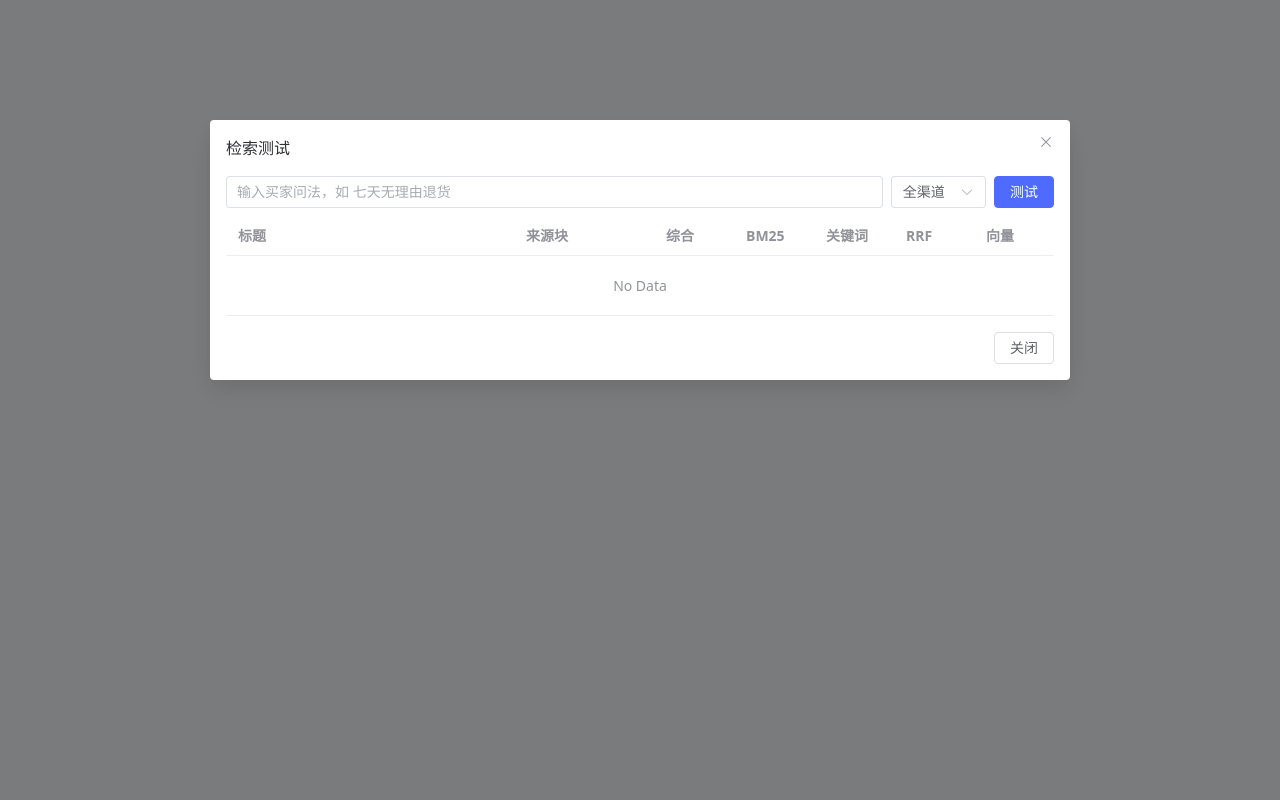
Test: retrievalTester › 正常返回渲染分数表与过滤计数
This screenshot has width=1280, height=800.
Type "七天无理由退货" into the field with placeholder "输入买家问法，如 七天无理由退货" at [554, 192], box top-left (237, 177), bottom-right (872, 207)
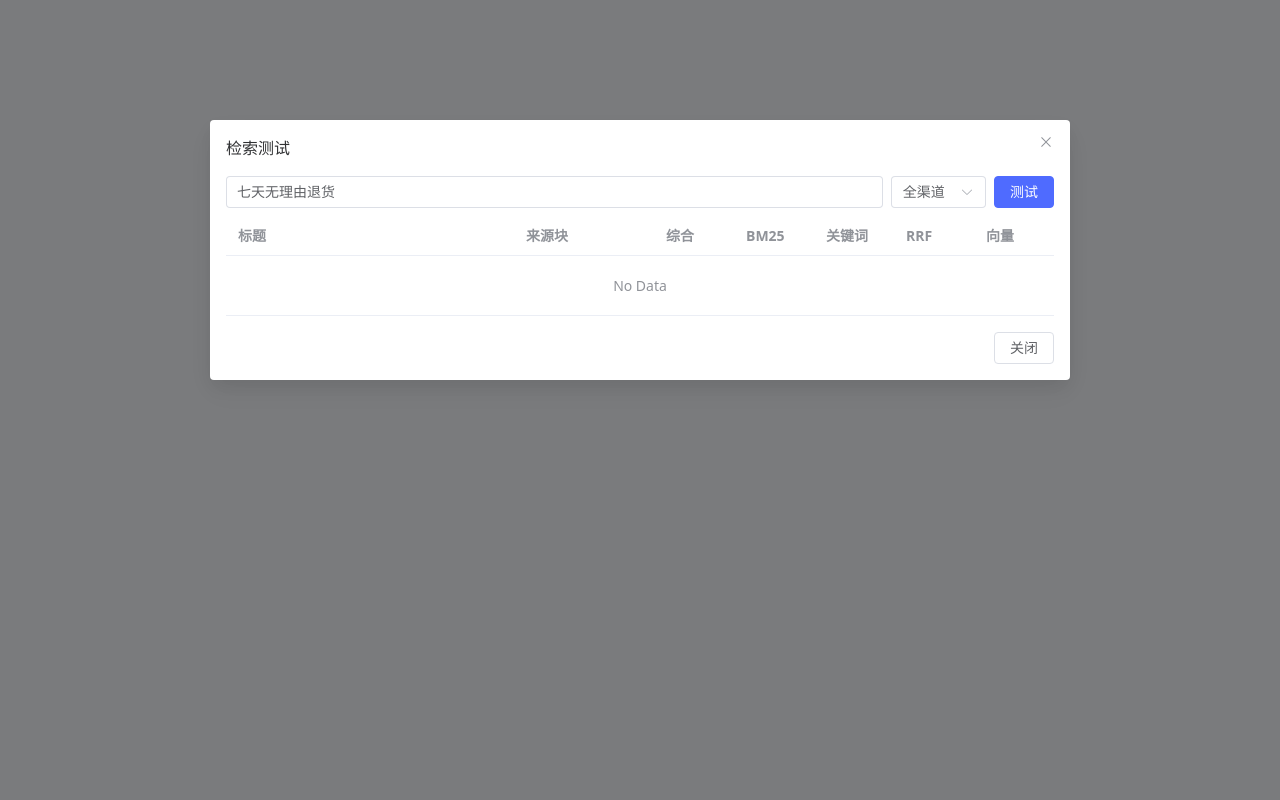
Click the button "测试" at [1024, 192], box top-left (994, 176), bottom-right (1054, 208)
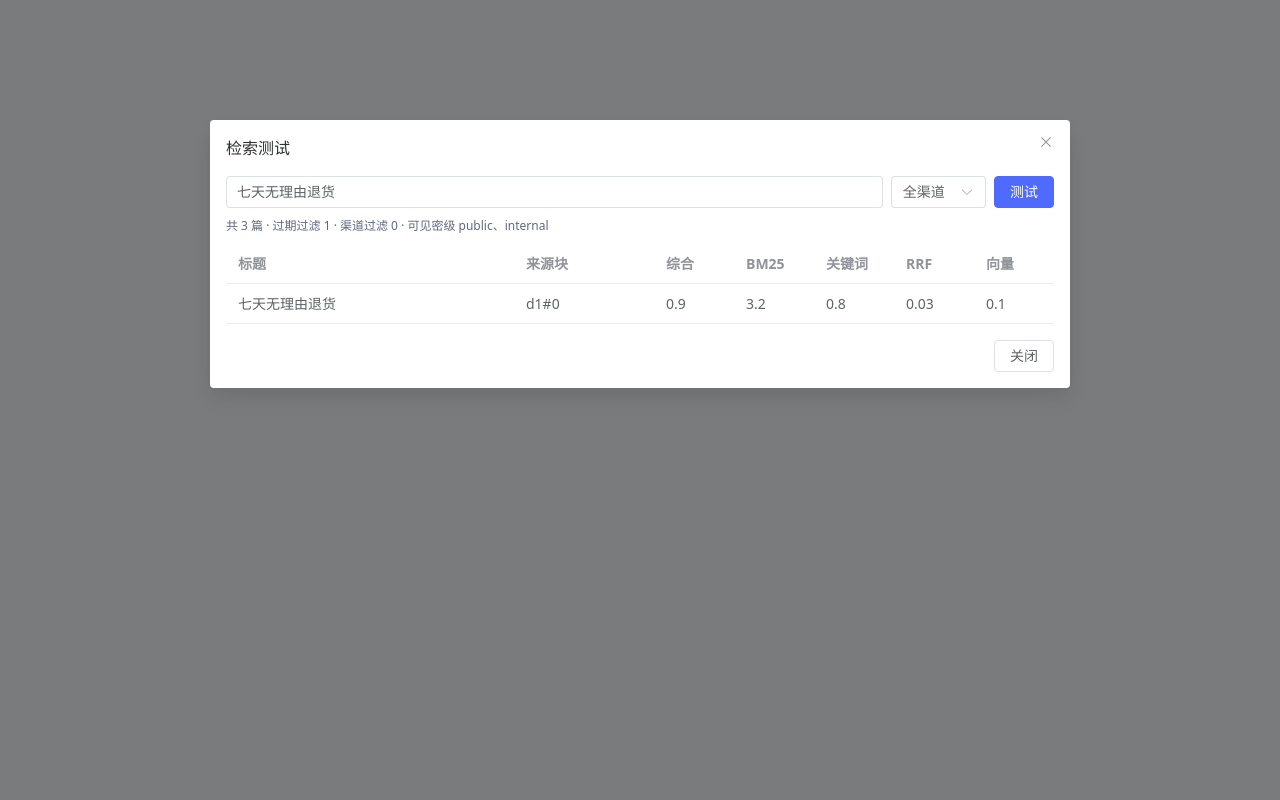
Expected: the text "BM25" is shown, top-left (746, 254), bottom-right (785, 273)
Now the text "七天无理由退货" is shown, box top-left (238, 294), bottom-right (336, 313)
